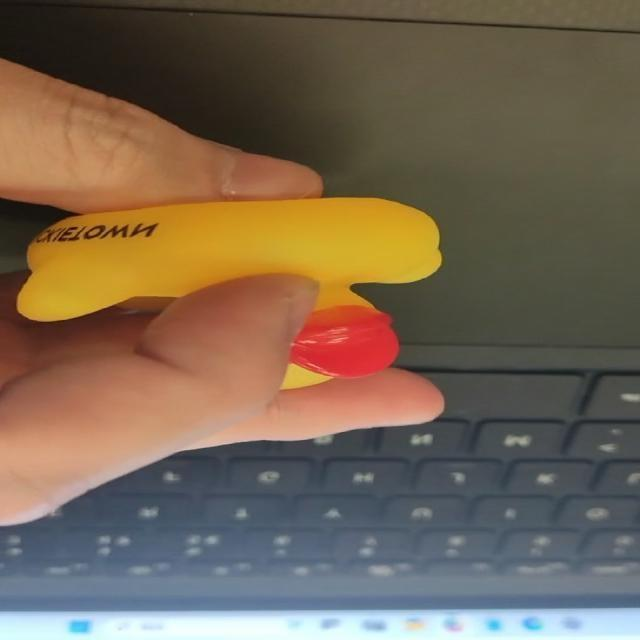rubber-duck: (17, 197, 440, 387)
